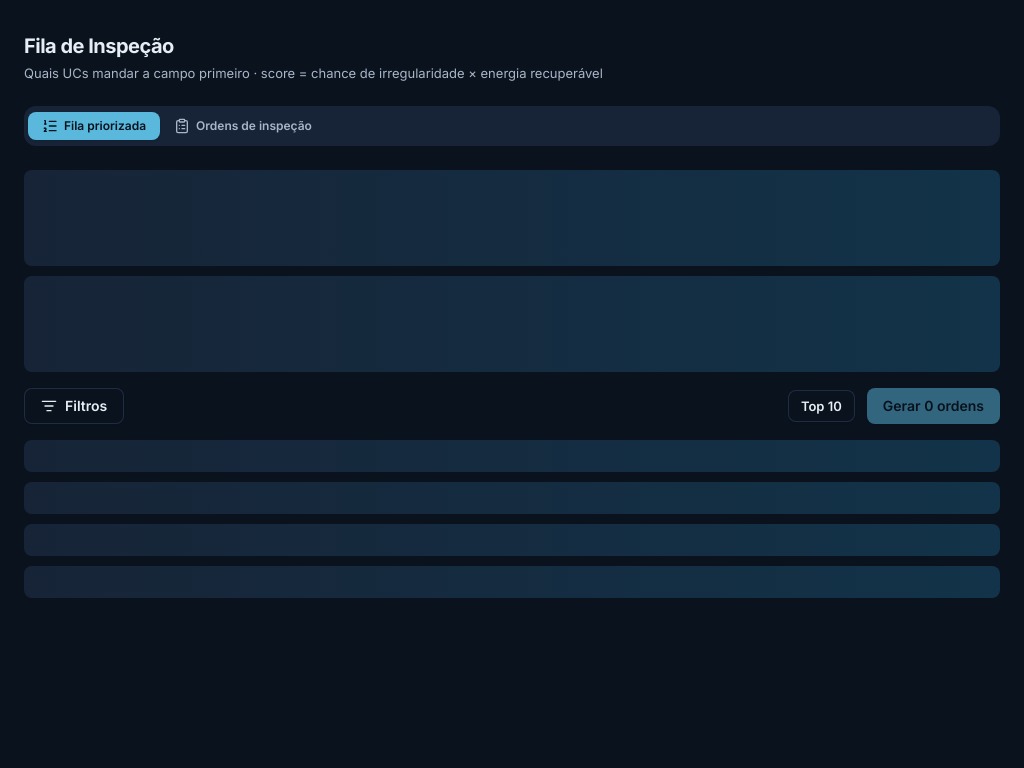
Test: LossManagementPage - erros e estados de envio › mostra a mensagem da API quando o cancelamento é recusado
Click the tab "Ordens de inspeção" at (243, 126), box [160,112,326,140]
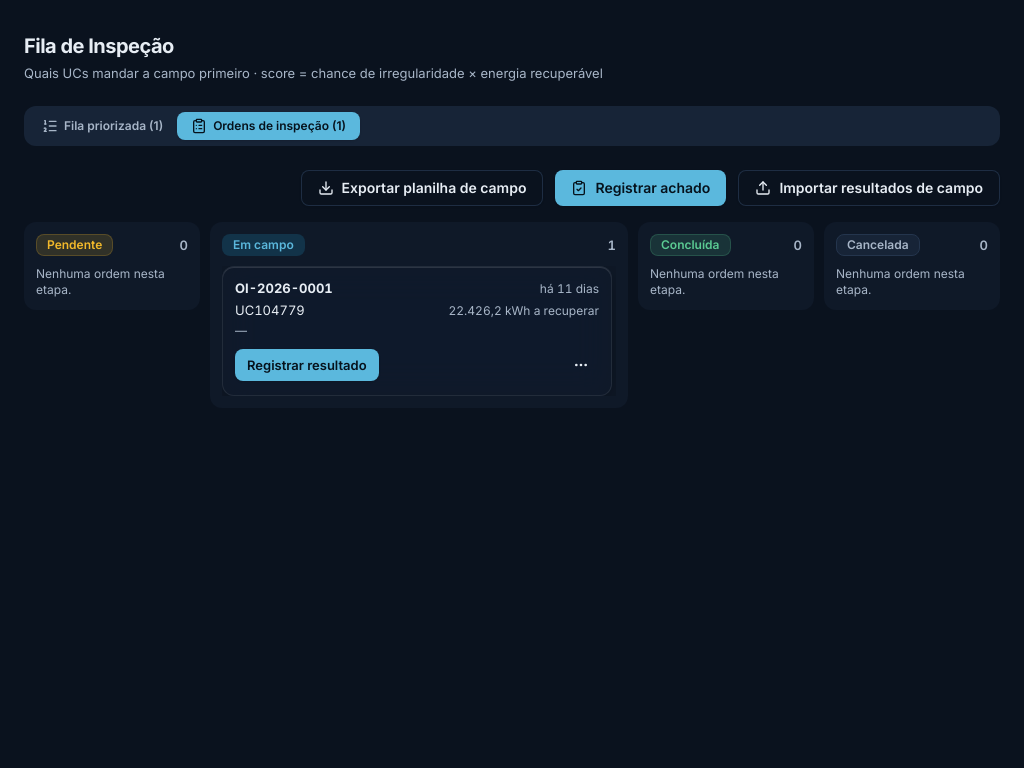
Press Enter in the button named "Mais ações OI-", box [563,347,599,383]
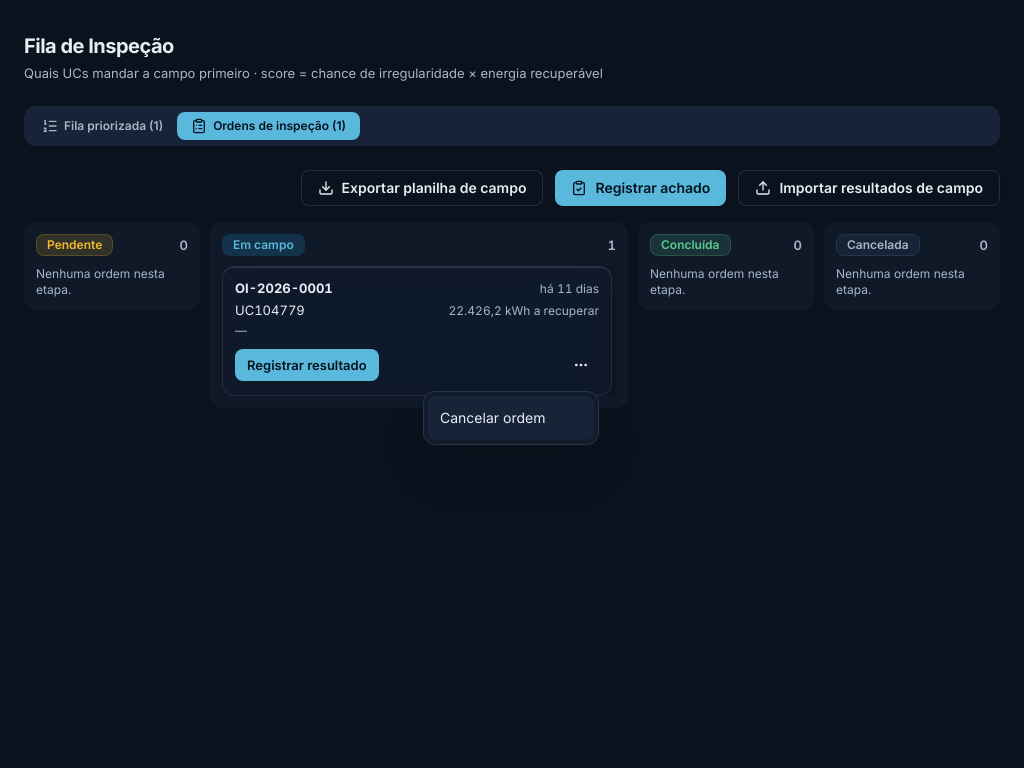
Click the menu item with aria-label "Cancelar OI-" at (511, 418), box [428,396,594,440]
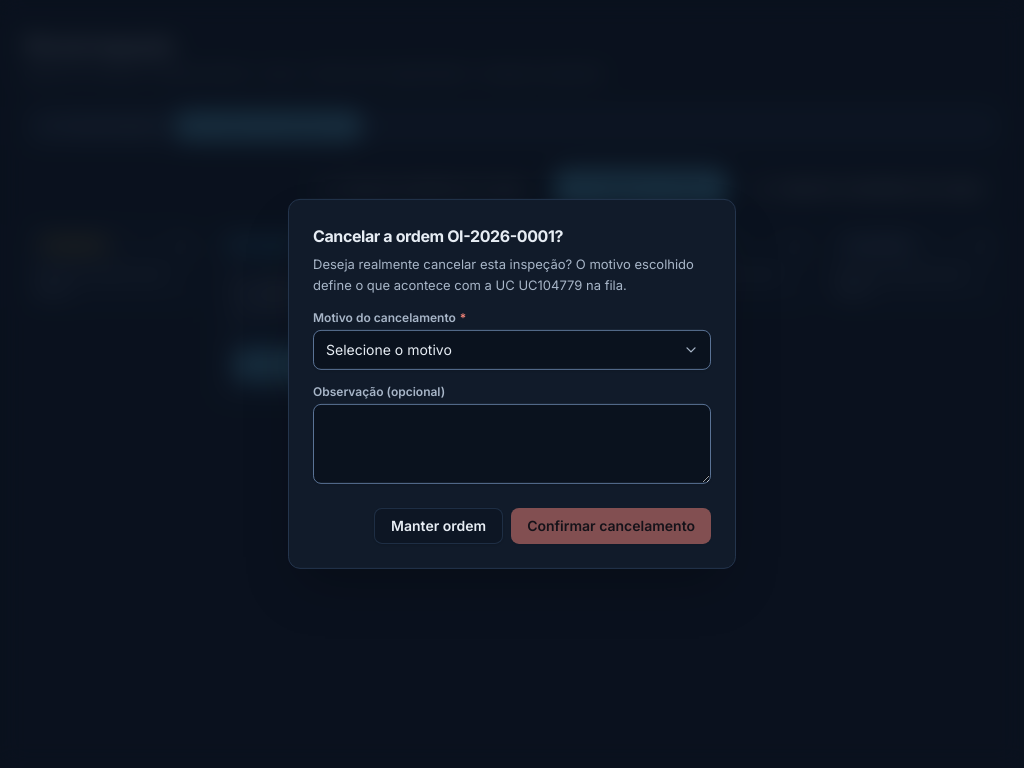
Select "UC regularizada pelo cliente" in the dropdown labelled "Motivo do cancelamento*" at (512, 350), box [313,330,711,370]
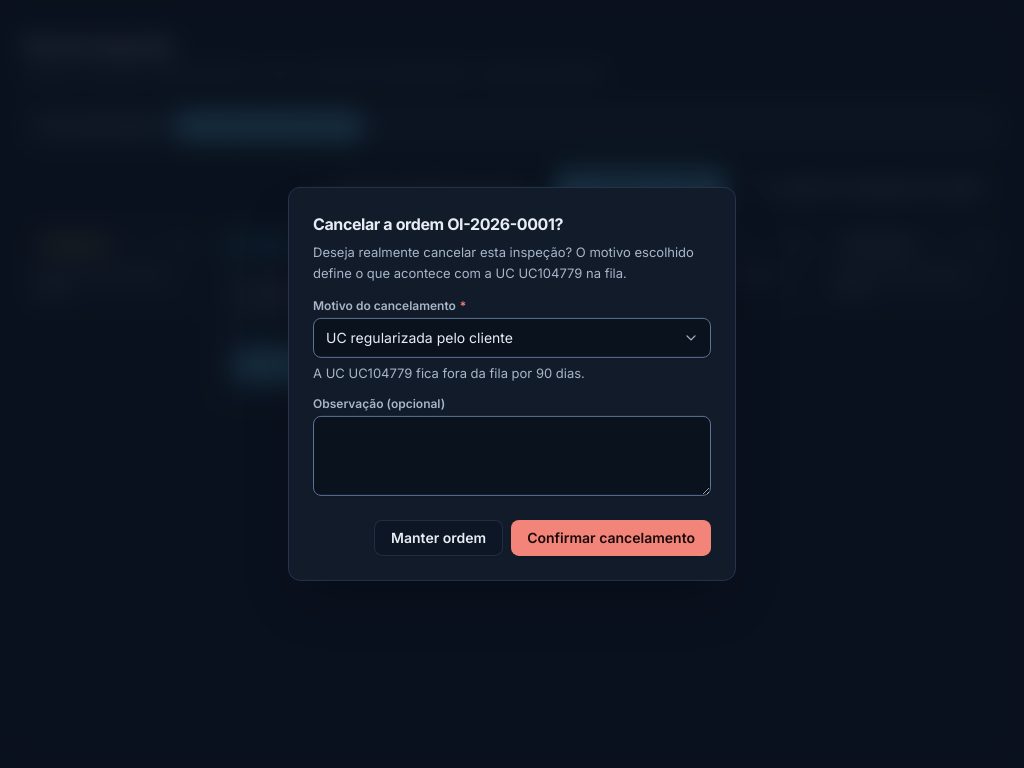
Click the button "Confirmar cancelamento" at (611, 538), box [511,520,711,556]
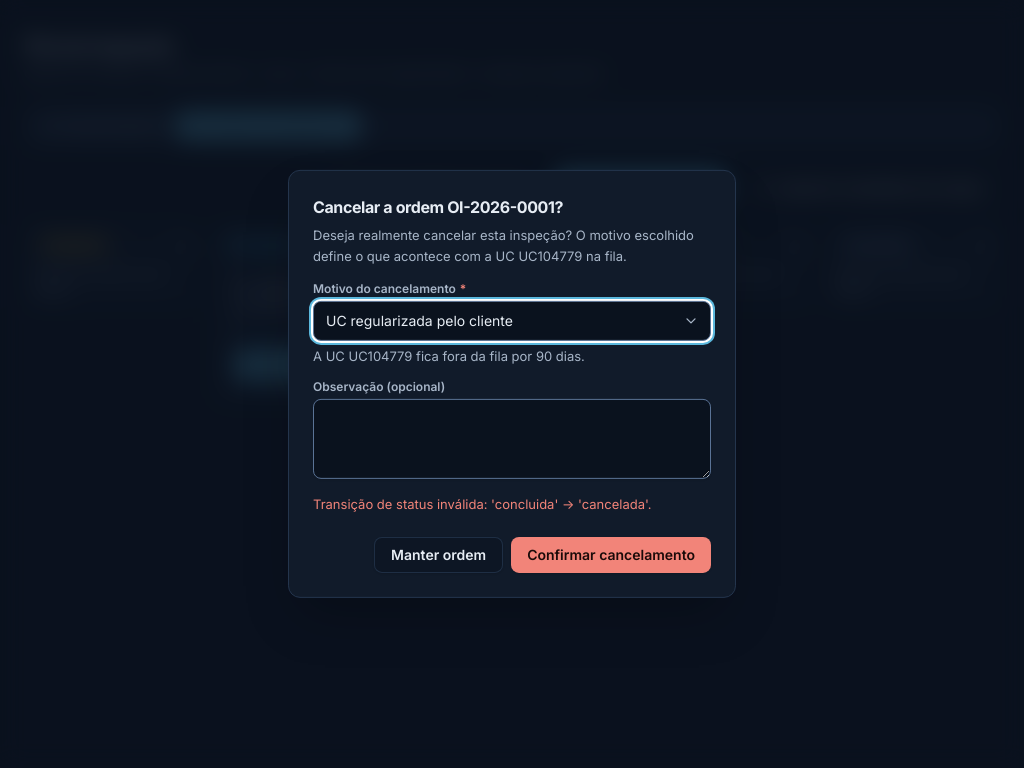
Now the message reads "Transição de status inválida: 'concluida' -> 'cancelada'.", box [313,496,652,512]
